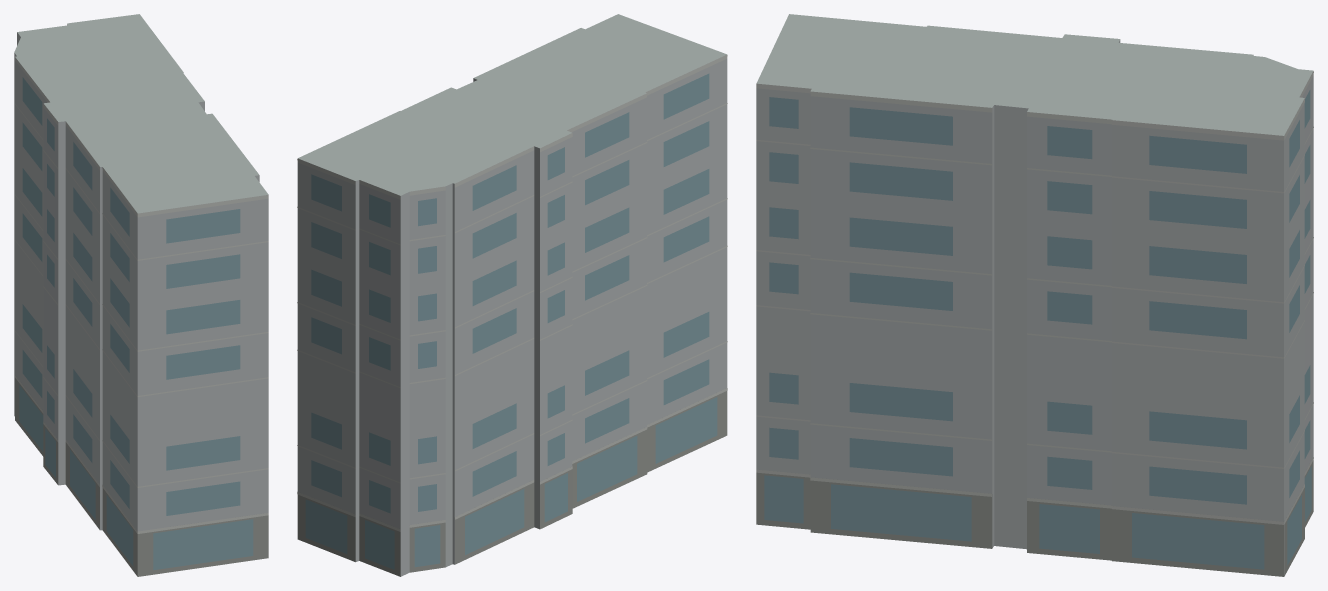
The model's file is survey-upis-32665023.glb.
The picture shows the model from 3 angles, left to right: view 1: azimuth 30°, elevation 25°; view 2: azimuth 150°, elevation 25°; view 3: azimuth 270°, elevation 25°; orthographic projection. The views are drawn at different scales.
Visible parts, largest first — view 1: survey-upis-32665023.tmp; view 2: survey-upis-32665023.tmp; view 3: survey-upis-32665023.tmp.
Part boxes in pixels (box(x1,y1,x2,y2)): survey-upis-32665023.tmp: box(14, 14, 268, 576); survey-upis-32665023.tmp: box(297, 14, 727, 576); survey-upis-32665023.tmp: box(756, 14, 1313, 576).
Bounding box in the file's own units: 13.6 × 22.9 × 26.25.
